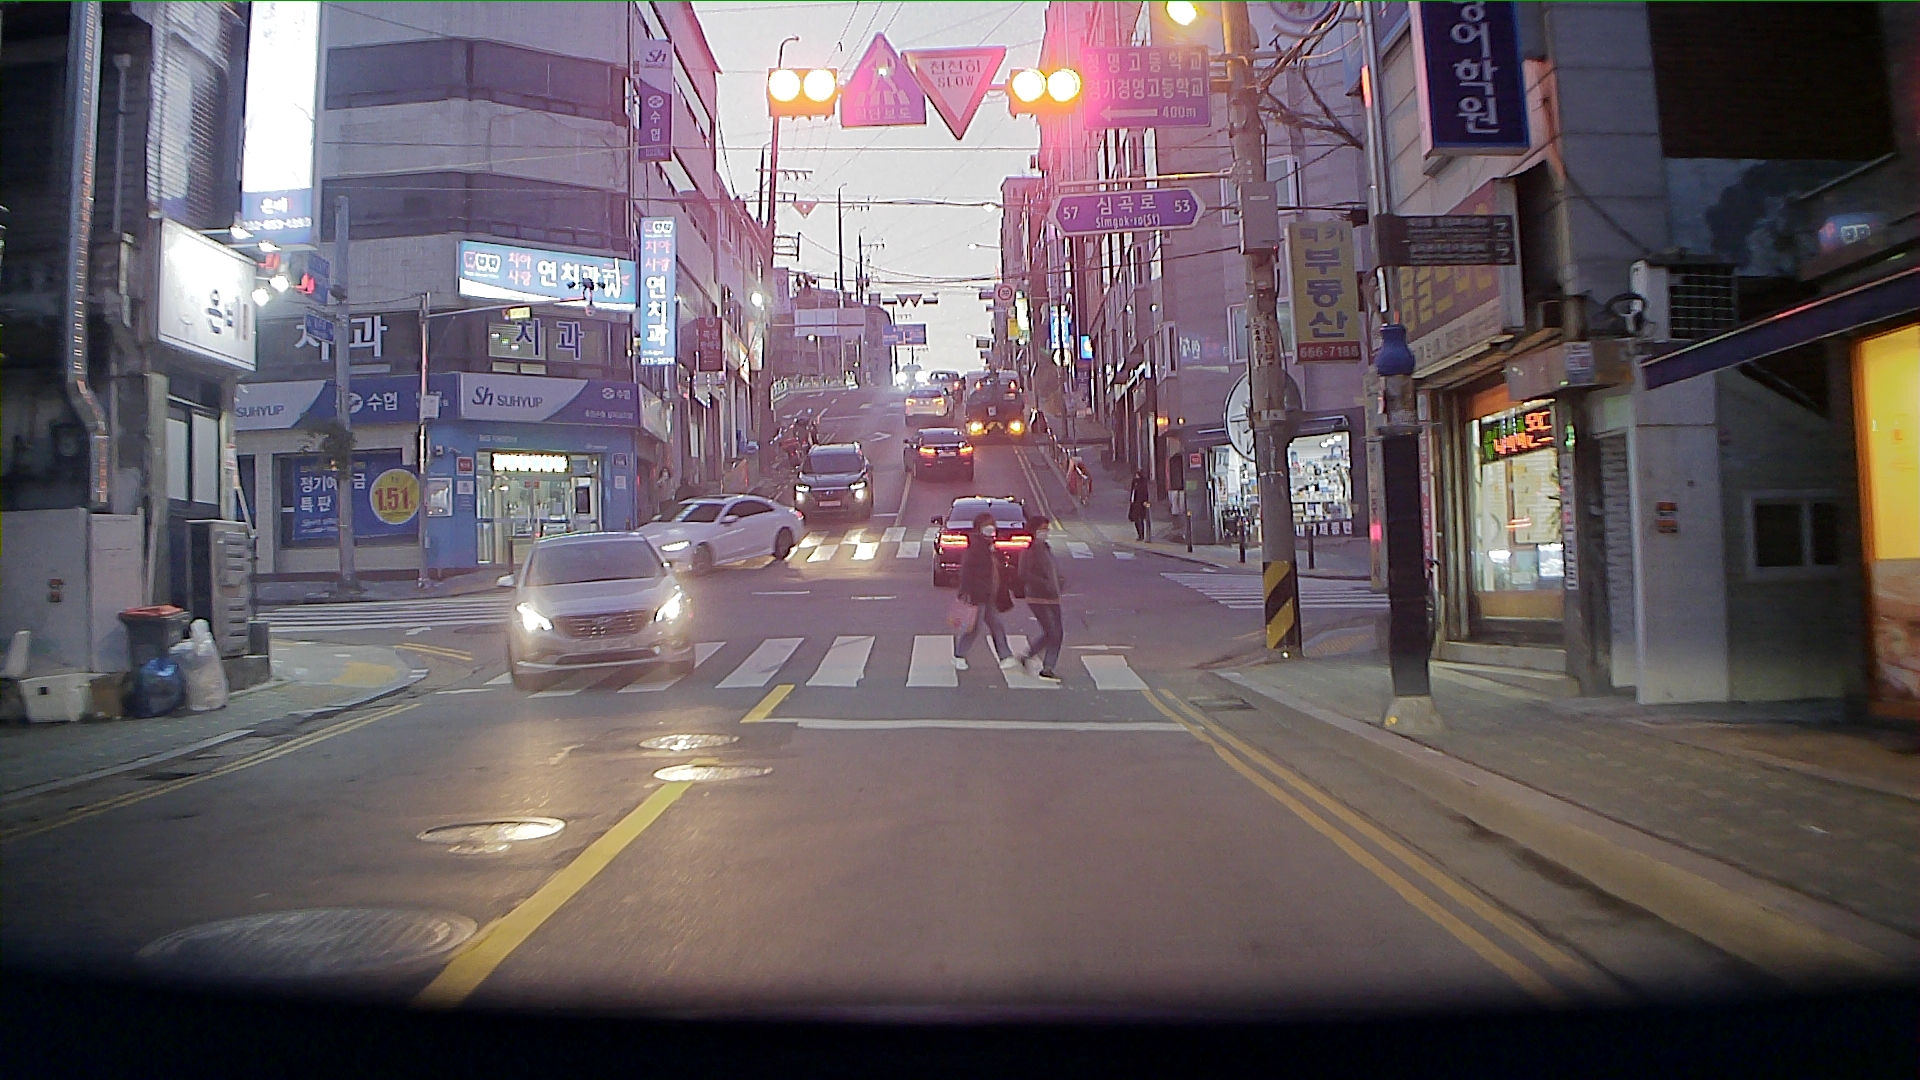trafficLight: (1010, 65, 1092, 117), (764, 69, 835, 119)
trafficSignTri: (913, 44, 1001, 141), (847, 36, 906, 123)
